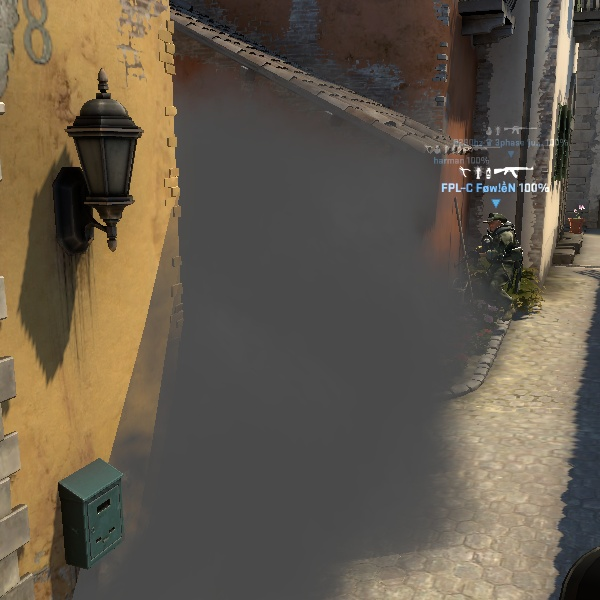ct_body: (463, 207, 532, 310)
ct_head: (480, 208, 511, 239)
